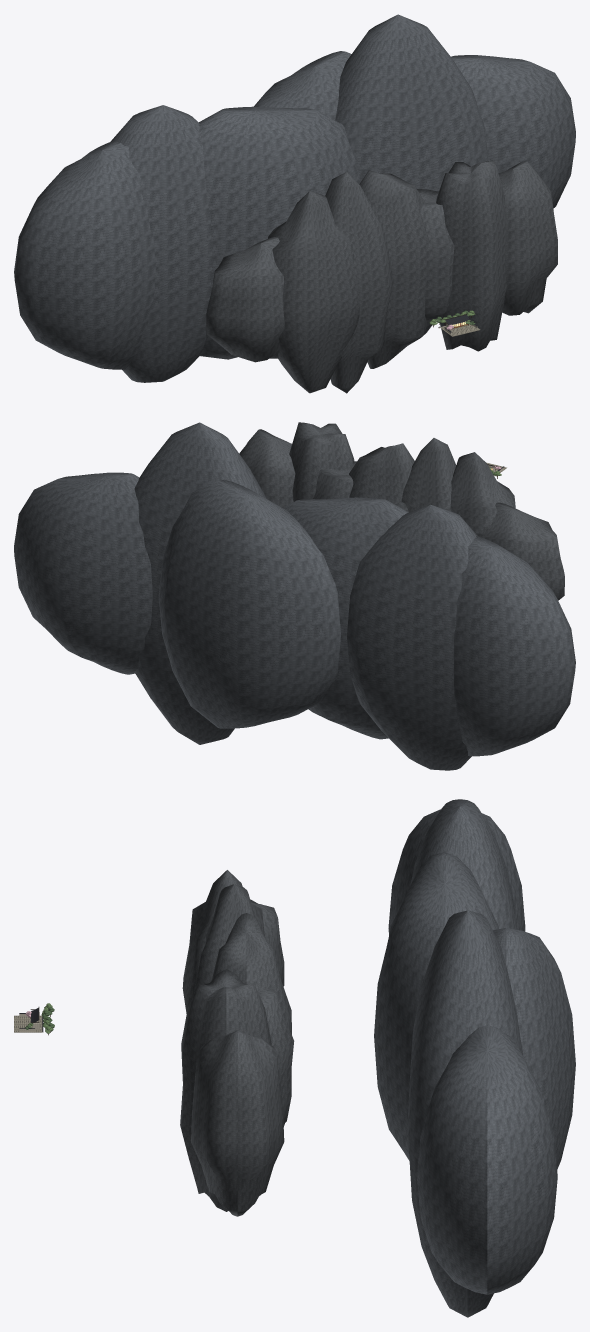
The model's file is stage3.glb.
3 views of the same model, one above another, from view 1: azimuth 30°, elevation 25°; view 2: azimuth 150°, elevation 25°; view 3: azimuth 270°, elevation 25° (orthographic). The views are drawn at different scales.
Visible parts, largest first — view 1: Scenery; view 2: Scenery; view 3: Scenery.
Part boxes in pixels (left/top/right/bottom): Scenery: left=14, top=14, right=575, bottom=393; Scenery: left=14, top=422, right=575, bottom=770; Scenery: left=14, top=799, right=575, bottom=1317.
Bounding box in the file's own units: 734 × 412 × 515.
Materials: 19 (18 with a texture image).
